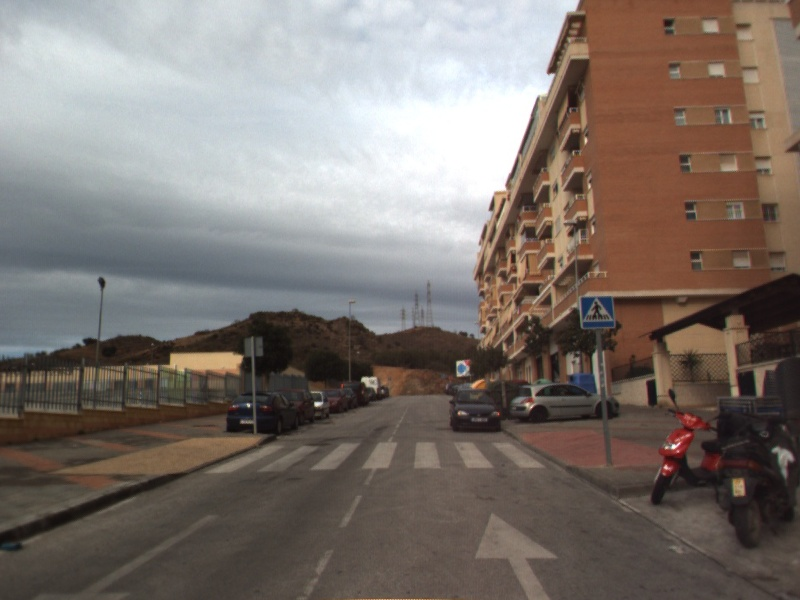STRAIGHT: (473, 510, 561, 600)
